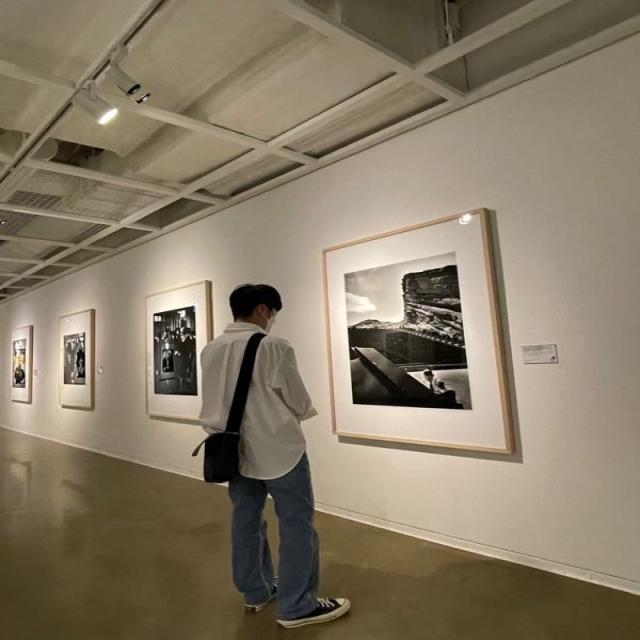denimpants: (232, 445, 321, 615)
shirt: (200, 325, 319, 482)
